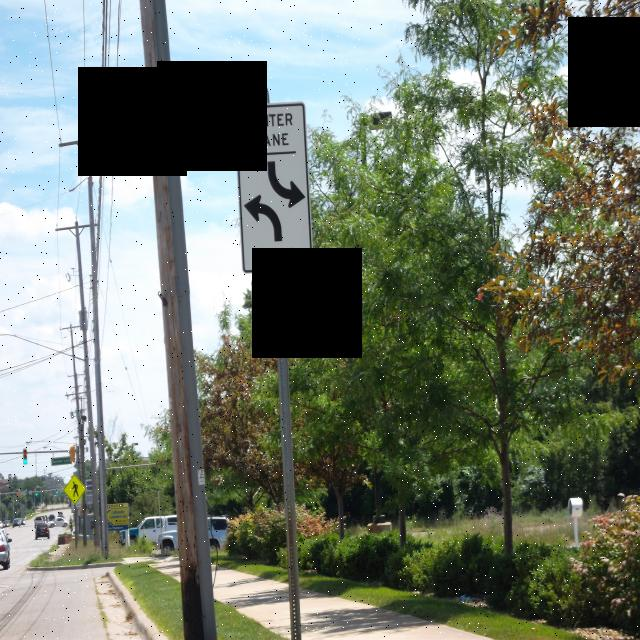regulatory: (230, 100, 321, 281), (256, 261, 302, 331)
warning: (62, 473, 88, 513)
